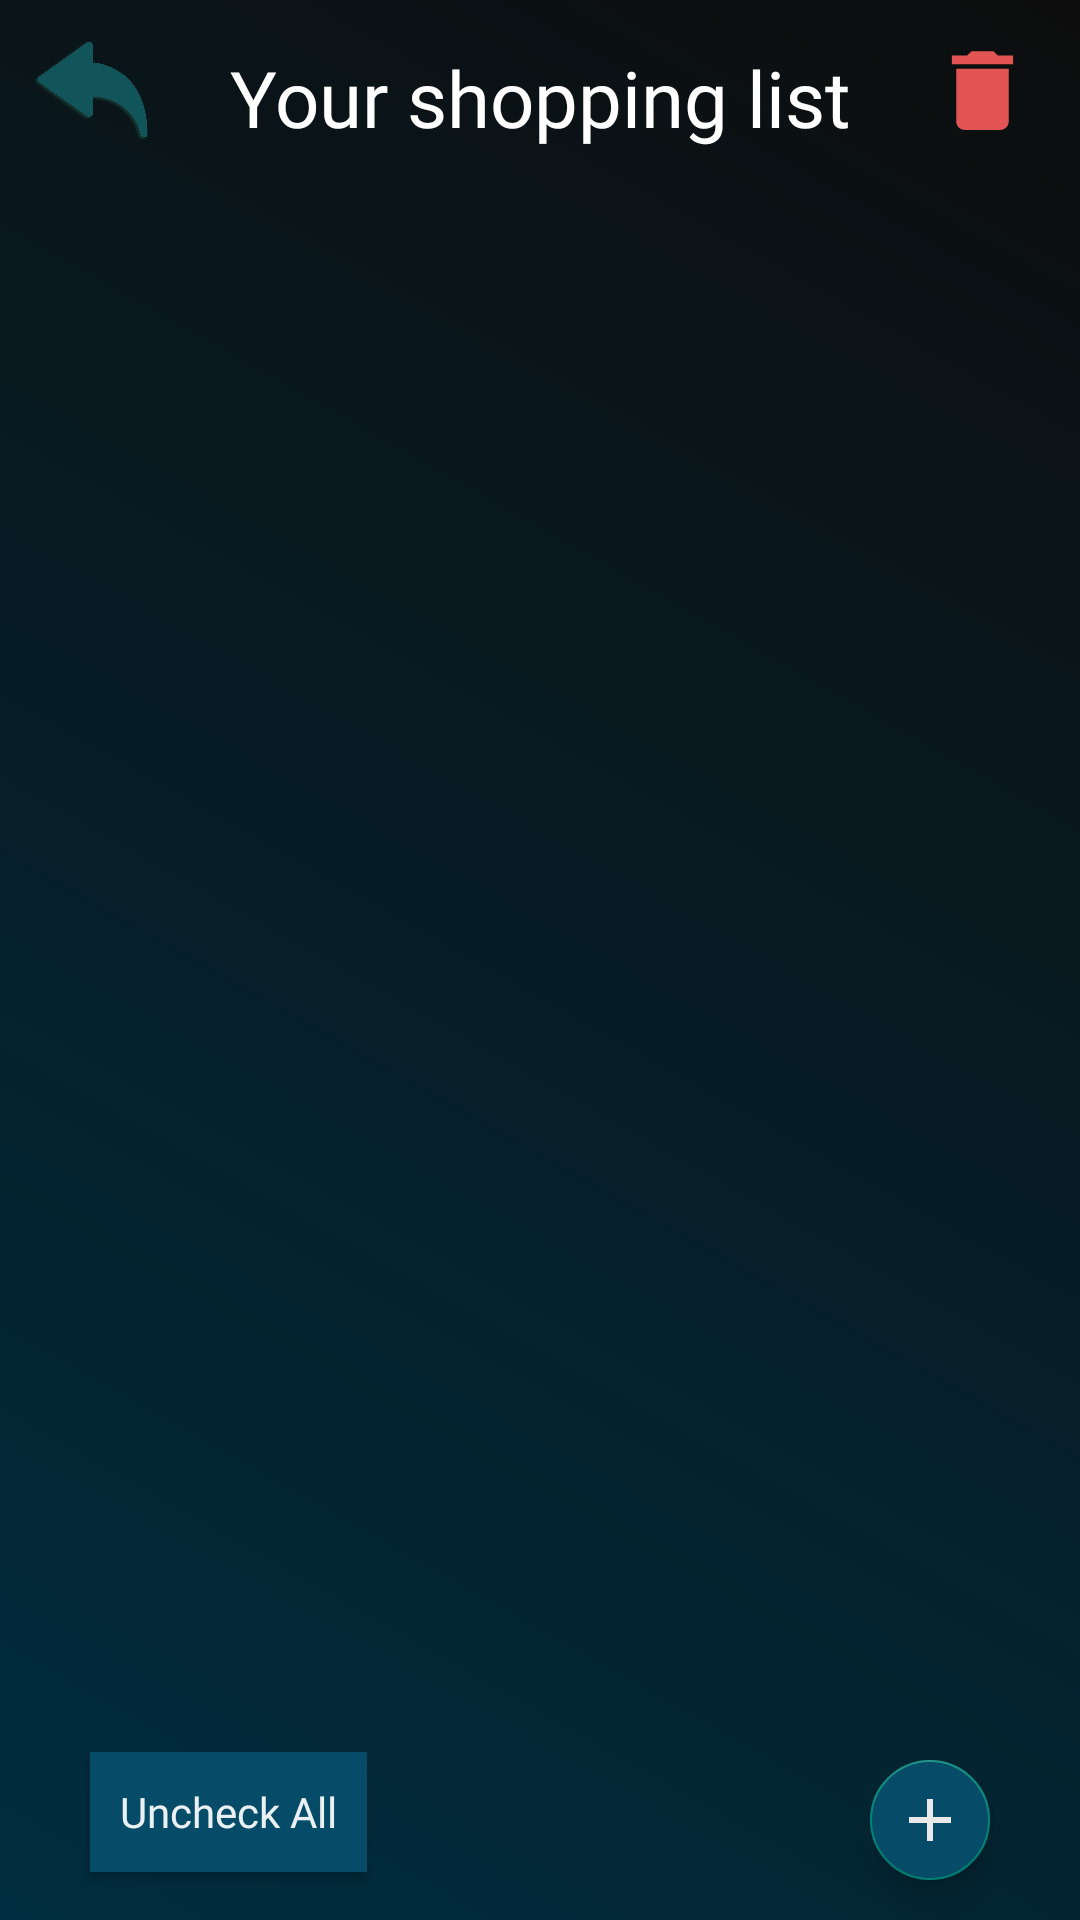

Where icons sit on this 1080x1920 app screen, as (x1, y1, x2, y2):
add: (870, 1760, 990, 1880)
back arrow: (37, 42, 147, 138)
delete: (951, 51, 1014, 130)
